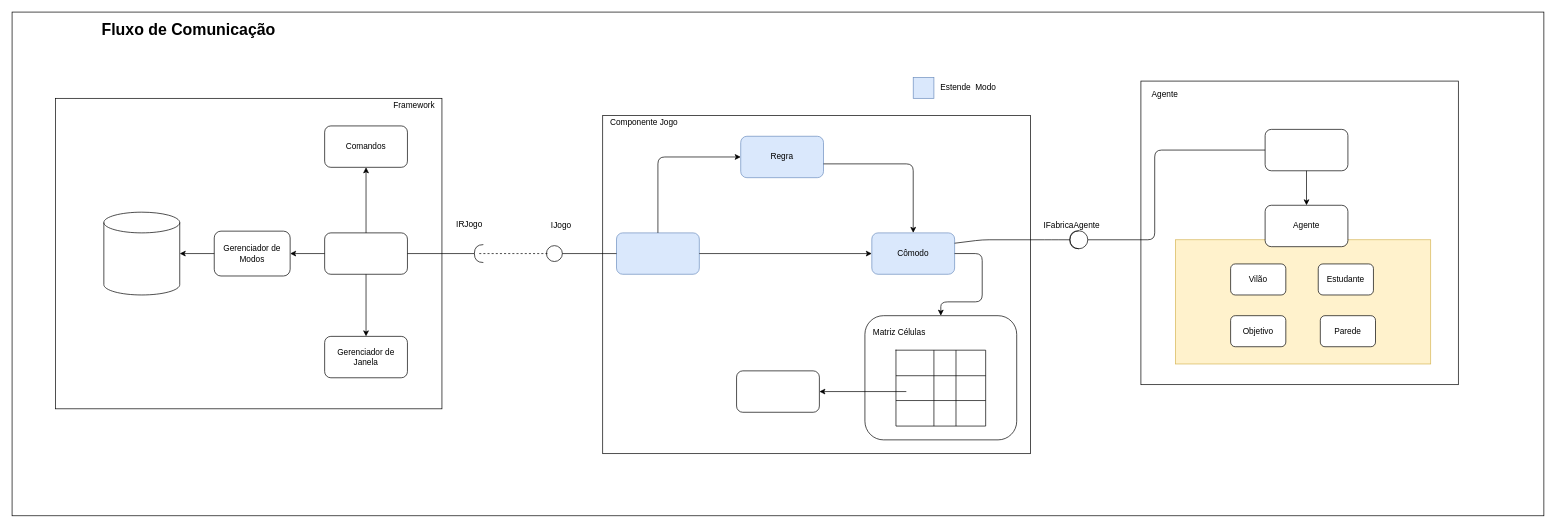
Some shapes in this 1556 by 528 pixel diagram are drawn without their labels. Each missing label, with the centre of its shape:
"Célula" belongs at point (777, 391).
"Fabrica" belongs at point (1306, 150).
"Menu Principal" belongs at point (657, 253).
"Motor" belongs at point (365, 253).
"Pilha de Modos" belongs at point (141, 253).
